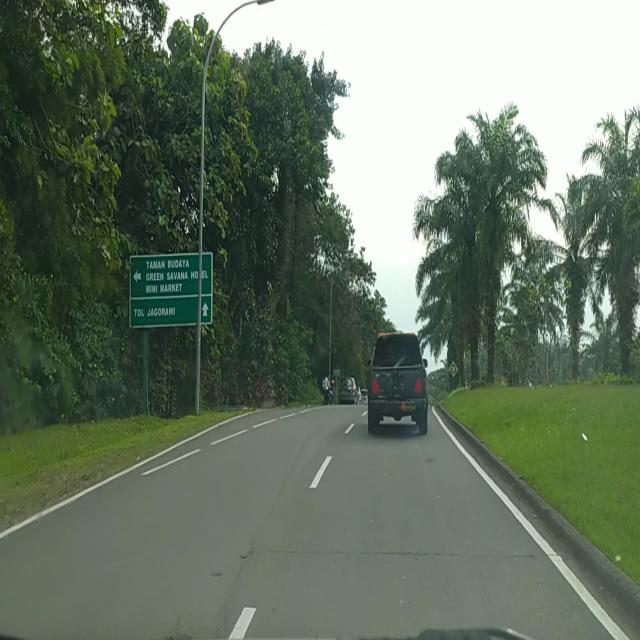Sewer Cover: (245, 541, 546, 563)
